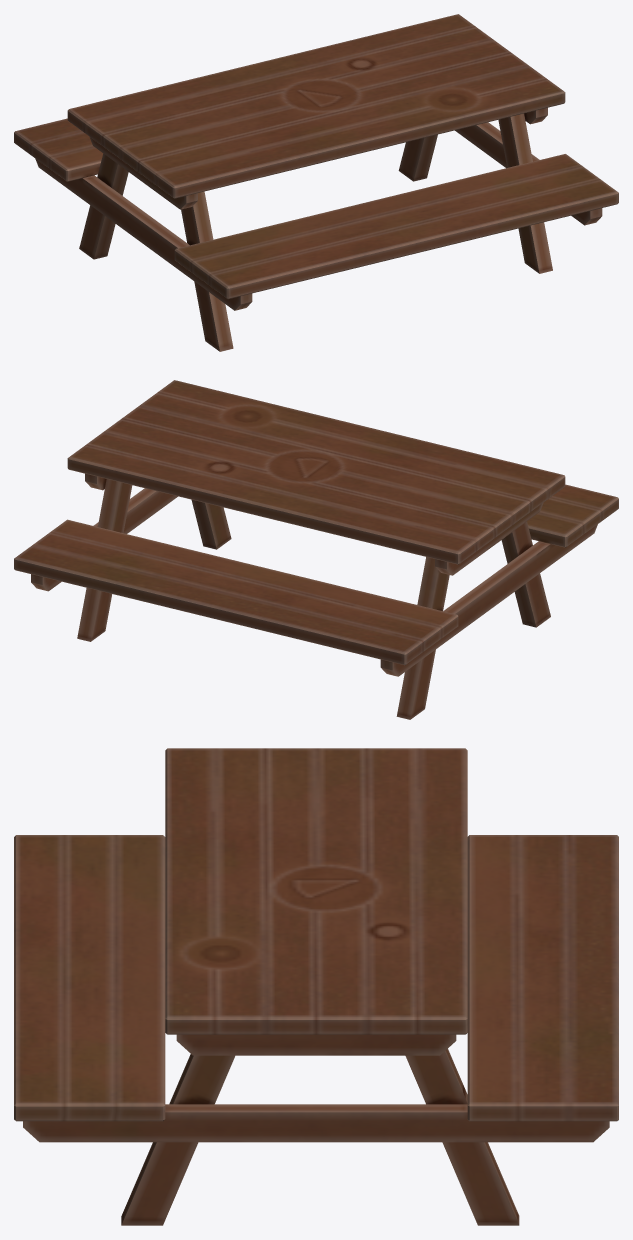
File: benchi.glb
3 views of the same model, one above another, from view 1: azimuth 30°, elevation 25°; view 2: azimuth 150°, elevation 25°; view 3: azimuth 270°, elevation 25° (orthographic). The views are drawn at different scales.
Visible parts, largest first — view 1: bench_low; view 2: bench_low; view 3: bench_low.
Part boxes in pixels (box(x1,y1,x2,y2)): bench_low: box(14, 14, 618, 351); bench_low: box(14, 380, 618, 719); bench_low: box(14, 748, 618, 1225).
Size of the model in its own units: 0.9217 by 0.3611 by 0.8715.
Materials: 1 (1 with a texture image).
